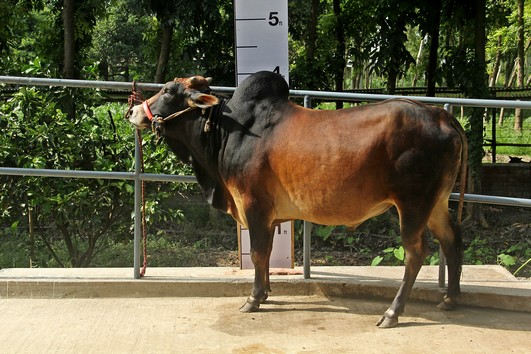cow: (118, 64, 473, 327)
